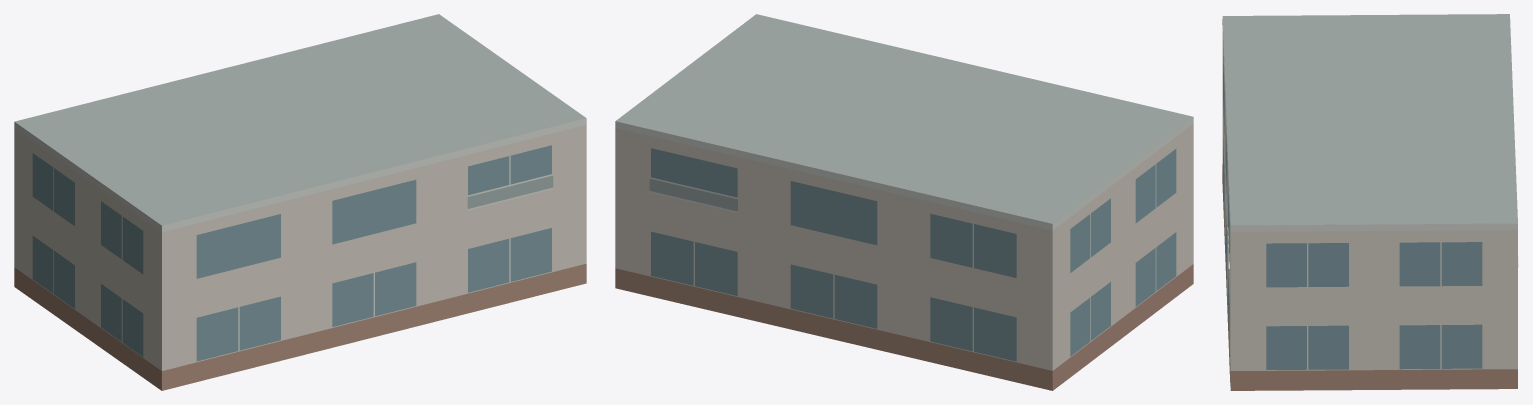
The model's file is survey-upis-32710196.glb.
The picture shows the model from 3 angles, left to right: view 1: azimuth 30°, elevation 25°; view 2: azimuth 150°, elevation 25°; view 3: azimuth 270°, elevation 25°; orthographic projection.
Parts seen in each view (by area): view 1: survey-upis-32710196.tmp; view 2: survey-upis-32710196.tmp; view 3: survey-upis-32710196.tmp.
Boxes of the visible parts, x1,y1,x2,y2 form: survey-upis-32710196.tmp: [14, 14, 586, 390]; survey-upis-32710196.tmp: [615, 14, 1193, 390]; survey-upis-32710196.tmp: [1222, 14, 1518, 390].
Size of the model in its own units: 16.73 by 6.1 by 9.9.
